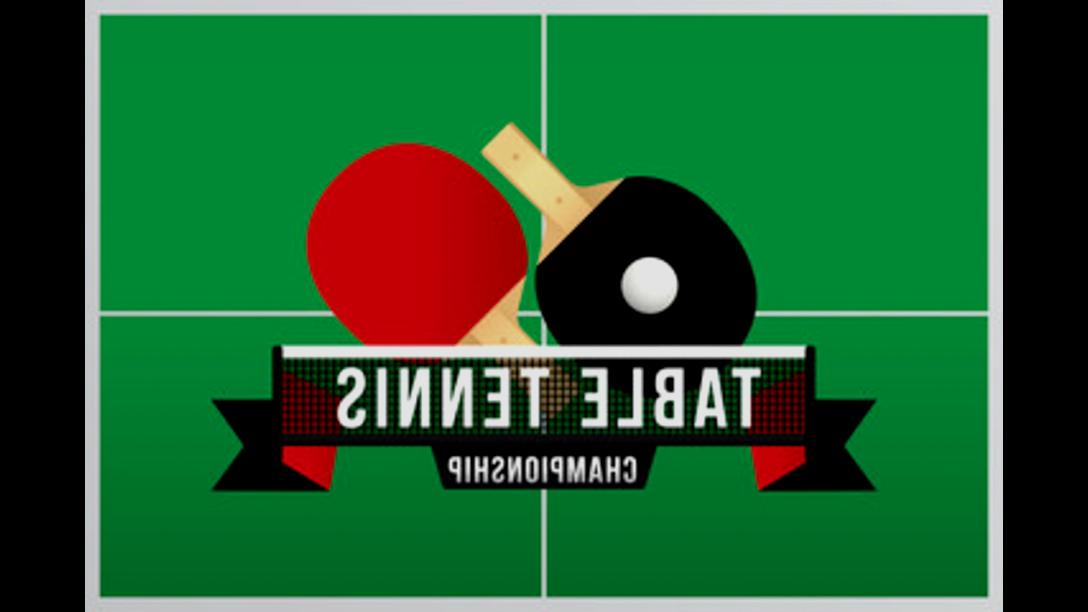Table-Tennis-Ball: (624, 256, 674, 310)
